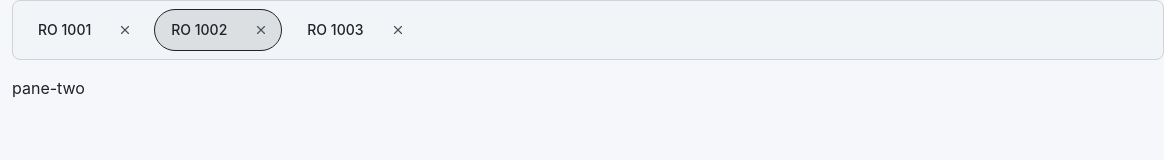
WorkspaceShell › switches tabs on click, keeping every pane mounted
This screenshot has width=1164, height=160.
Click the button "RO 1003": (335, 30) [291,10,380,50]
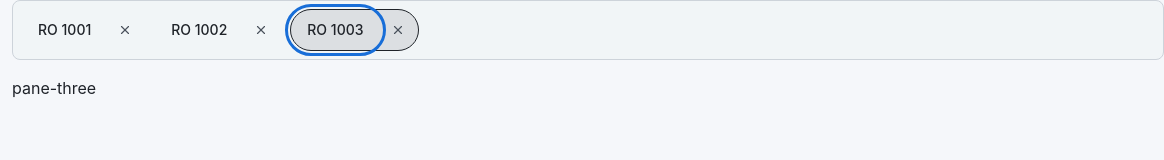
Result: the text "pane-three" is shown at [12,78,96,98]
Result: the text "pane-two" is gone
